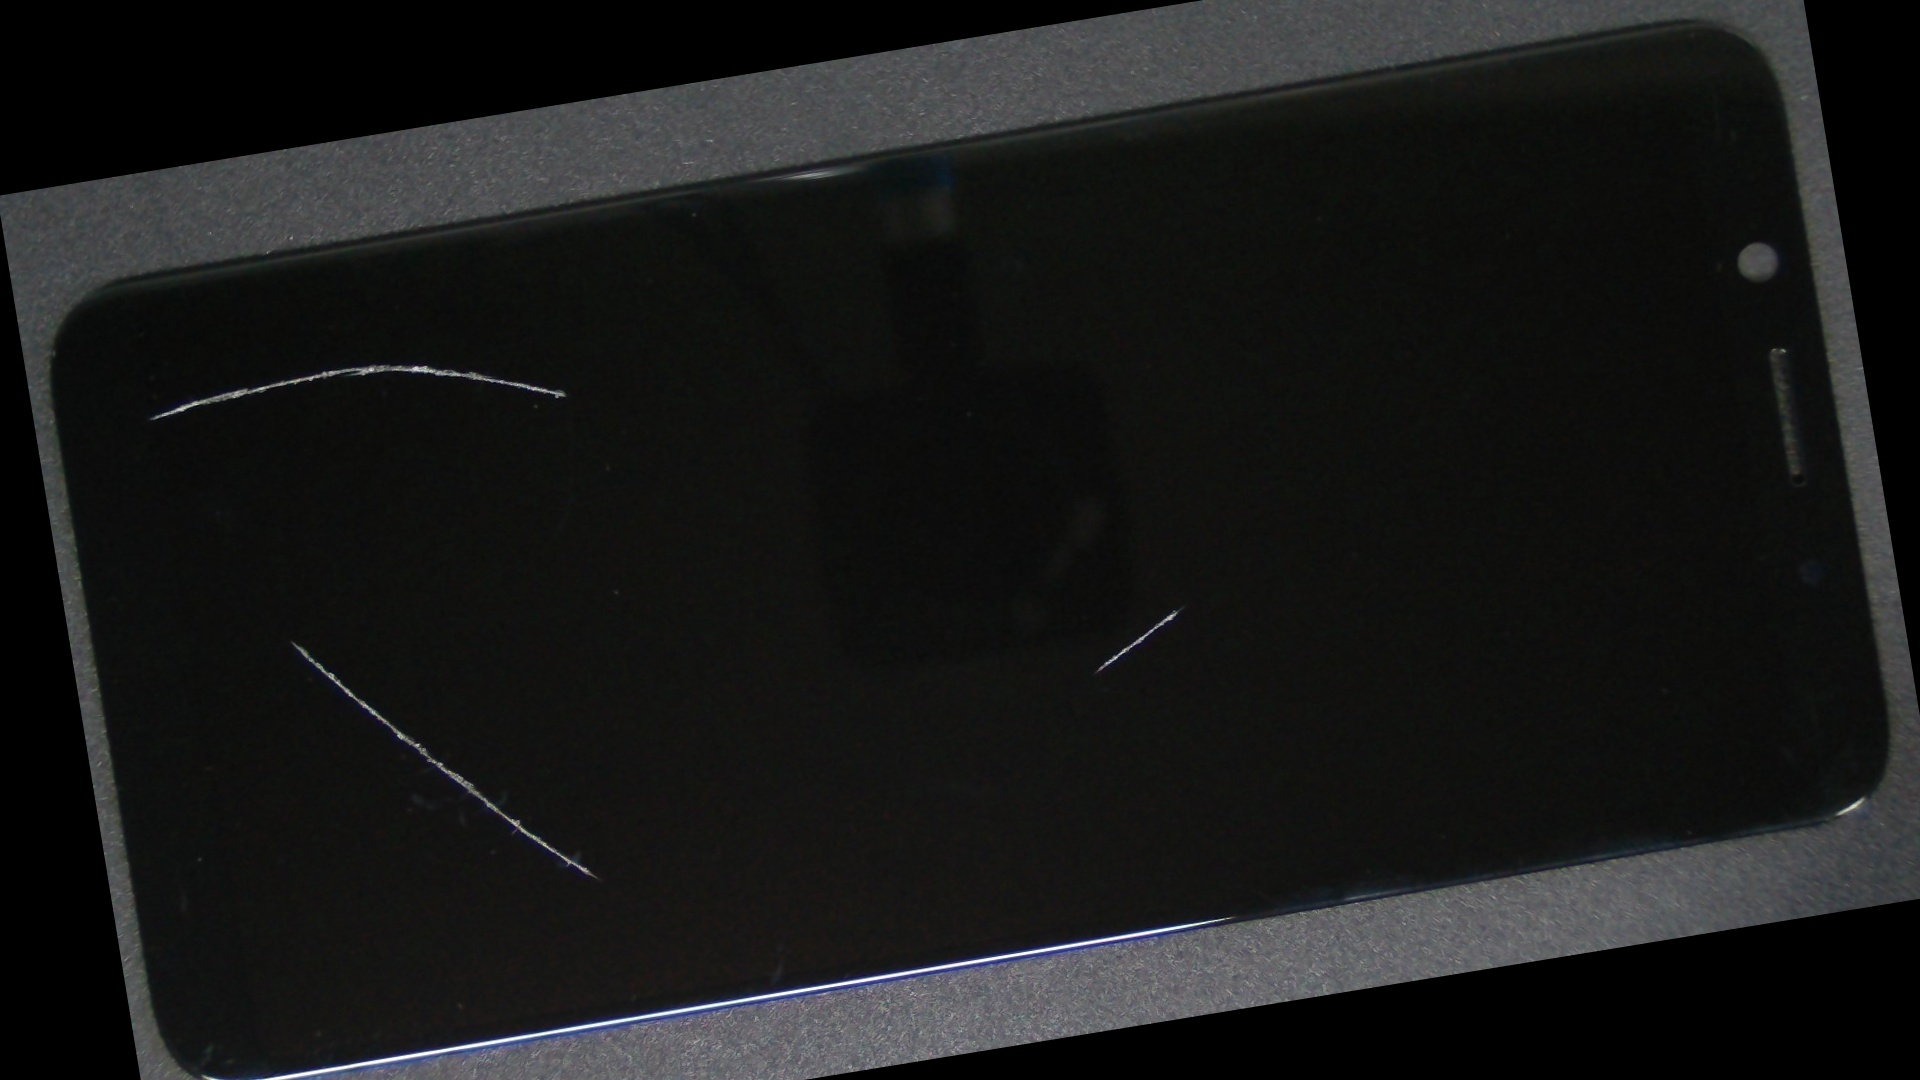oil: (591, 223, 1775, 988), (144, 382, 436, 895), (161, 236, 484, 505)
